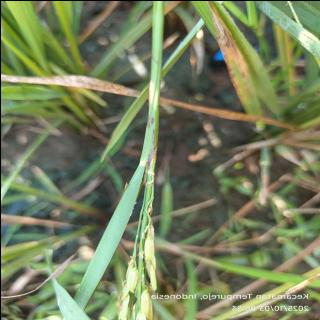bercak-Cokelat: (145, 112, 155, 128)
